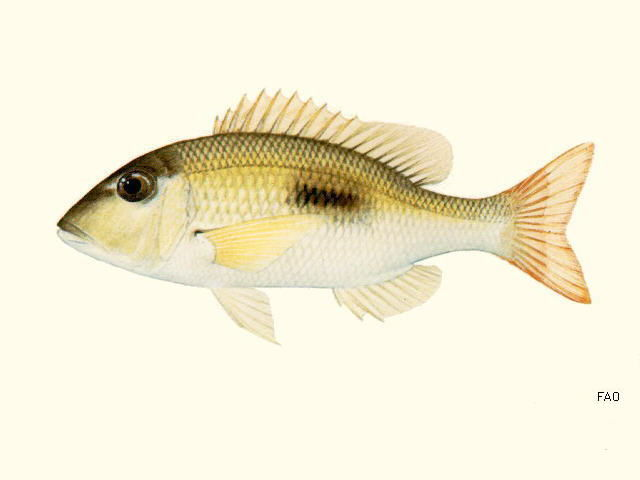fish: (57, 90, 594, 348)
